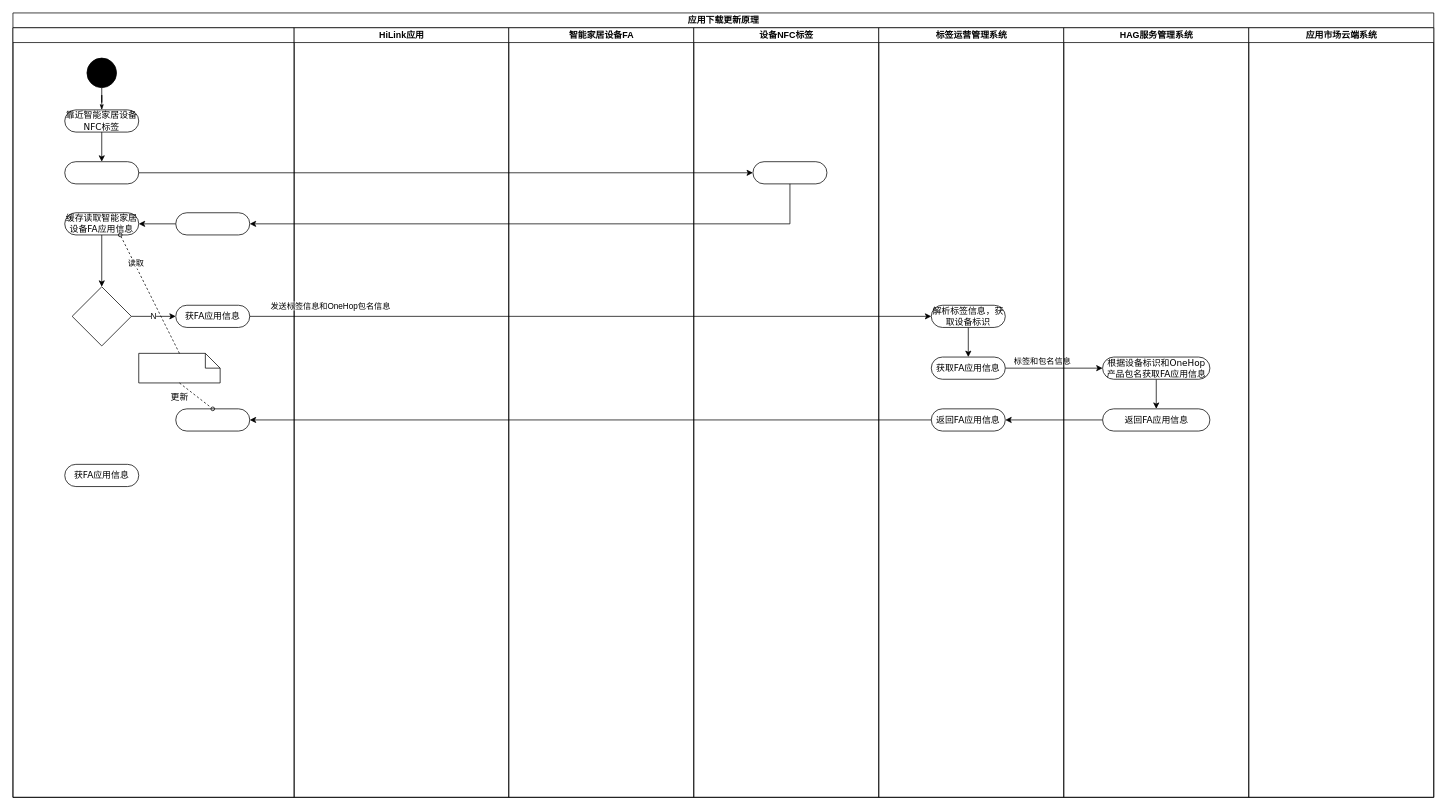
The diagram is 1447 pixels wide and 810 high, and some of its shapes have lost their labels. Each missing label, with the box of its shape:
开始: (86, 57, 117, 88)
本地缓存是否存在FA信息？: (71, 286, 131, 346)
标签-应用映射缓存: (138, 353, 220, 383)
根据标签信息更新缓存FA应用信息: (175, 408, 250, 431)
碰一碰应用: (12, 27, 294, 797)
获取设备NFC标签信息: (64, 161, 139, 184)
解析标签信息: (175, 212, 250, 235)
返回设备标签信息: (752, 161, 827, 184)
